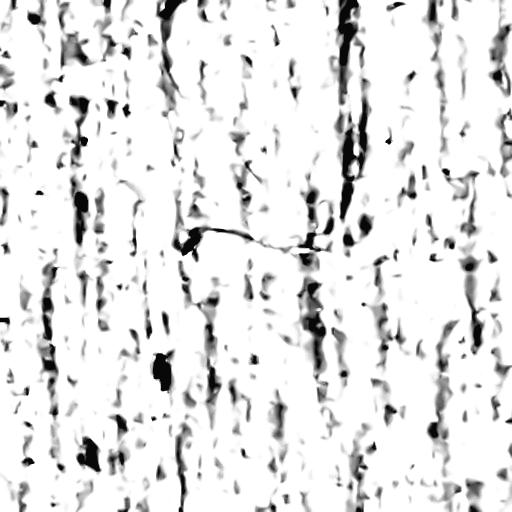egg: (153, 354, 169, 390), (182, 231, 199, 254), (162, 0, 178, 16), (75, 192, 86, 207)
